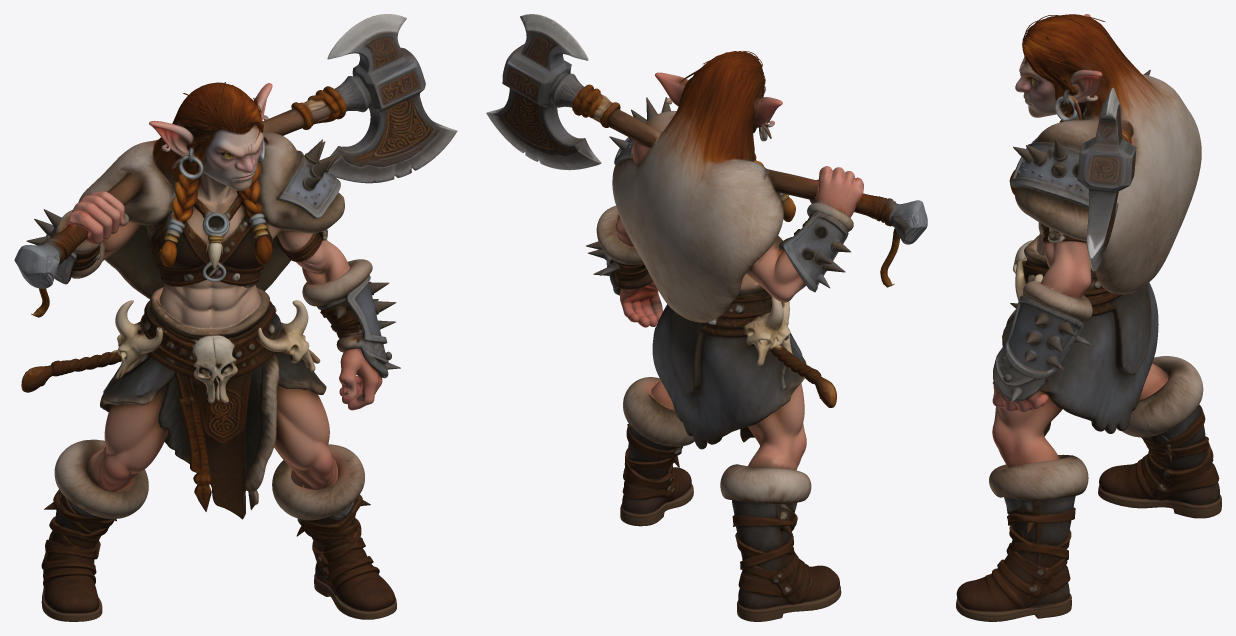
File: halfling_barbarian_full_female_01.glb
3 views of the same model, side by side, from view 1: azimuth 30°, elevation 25°; view 2: azimuth 150°, elevation 25°; view 3: azimuth 270°, elevation 25° (orthographic). The views are drawn at different scales.
Visible parts, largest first — view 1: material; view 2: material; view 3: material.
Boxes of the visible parts, bbox=[...] form: material: bbox=[14, 14, 457, 621]; material: bbox=[486, 14, 927, 621]; material: bbox=[956, 14, 1221, 621].
Bounding box in the file's own units: 0.8776 × 0.9943 × 0.4339.
Materials: 1 (1 with a texture image).
